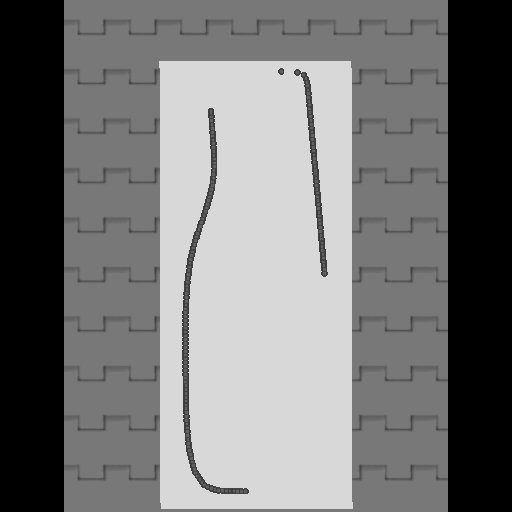Defect: (247, 270, 330, 500)
